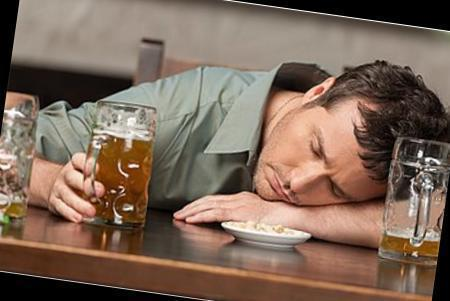Drunk: (260, 96, 368, 201)
